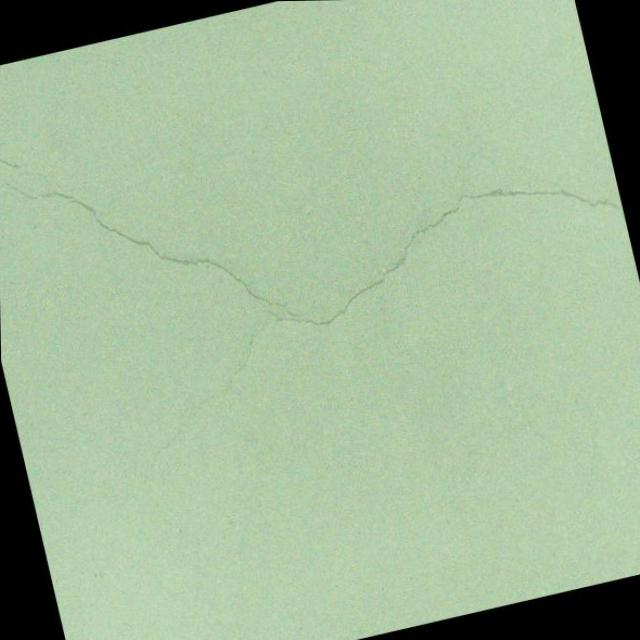crack: (0, 29, 640, 640), (0, 124, 67, 198)
